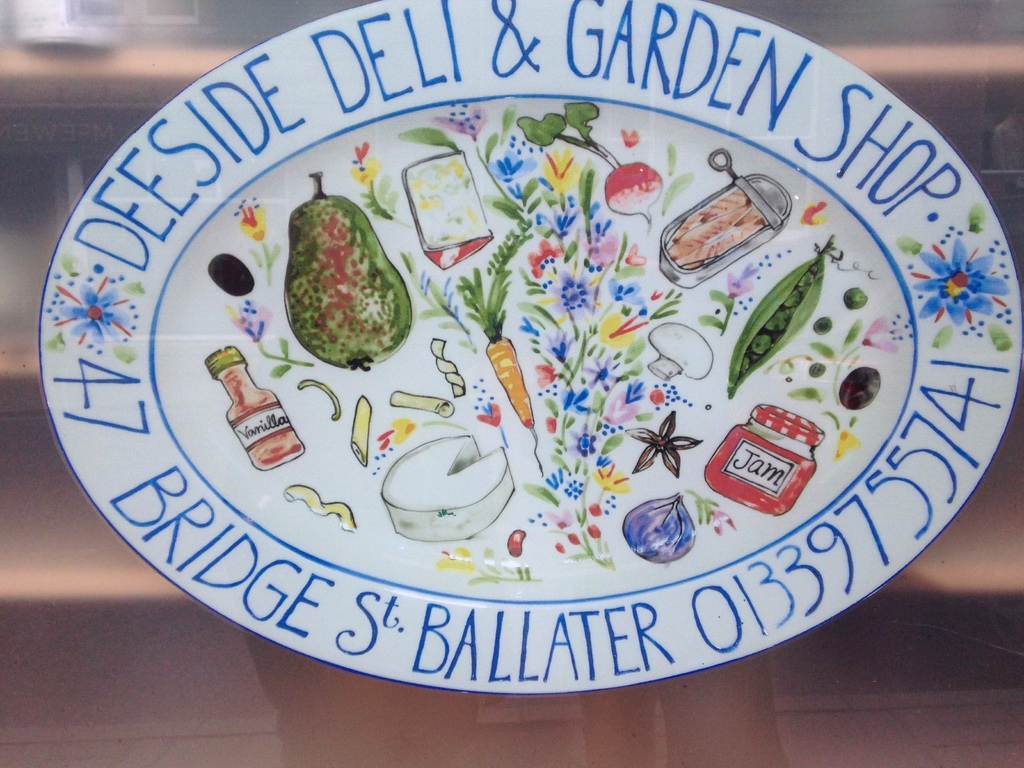plate: (36, 0, 1023, 695)
